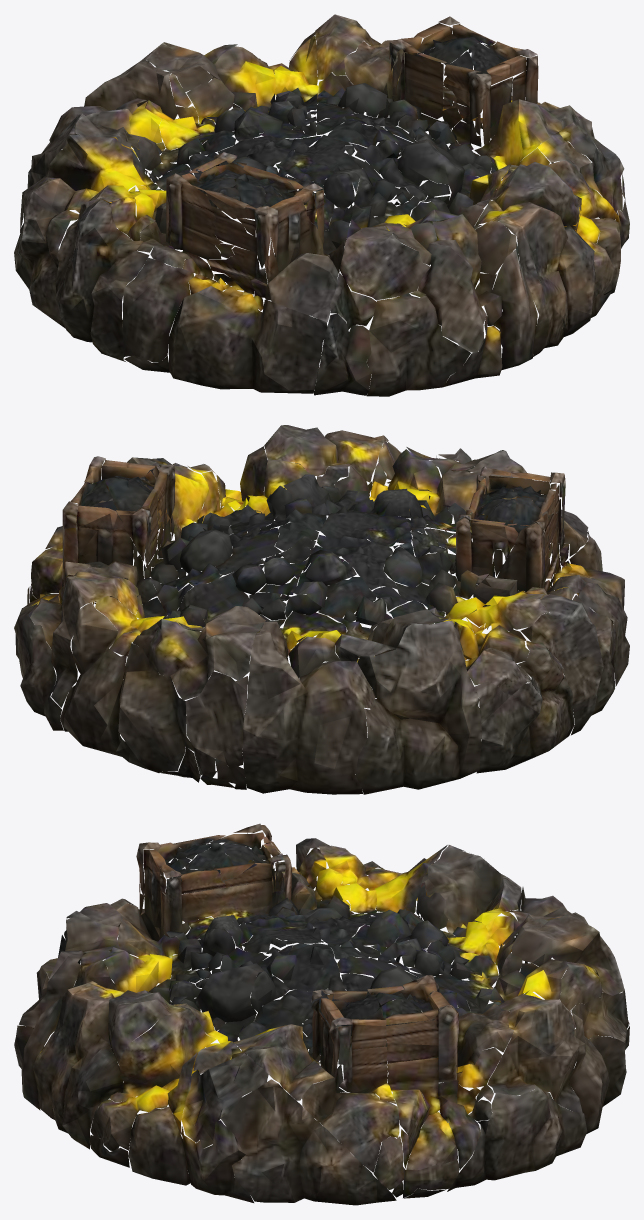
The model's file is mine-gunpowder.glb.
The picture shows the model from 3 angles, top to bottom: view 1: azimuth 30°, elevation 25°; view 2: azimuth 150°, elevation 25°; view 3: azimuth 270°, elevation 25°; orthographic projection.
Parts seen in each view (by area): view 1: mine-gunpowder-body; view 2: mine-gunpowder-body; view 3: mine-gunpowder-body.
Part boxes in pixels (<box>): mine-gunpowder-body: <box>14,14,629,396</box>; mine-gunpowder-body: <box>14,425,629,794</box>; mine-gunpowder-body: <box>14,823,629,1205</box>.
Size of the model in its own units: 0.9995 by 0.3065 by 0.996.
Materials: 1 (1 with a texture image).
